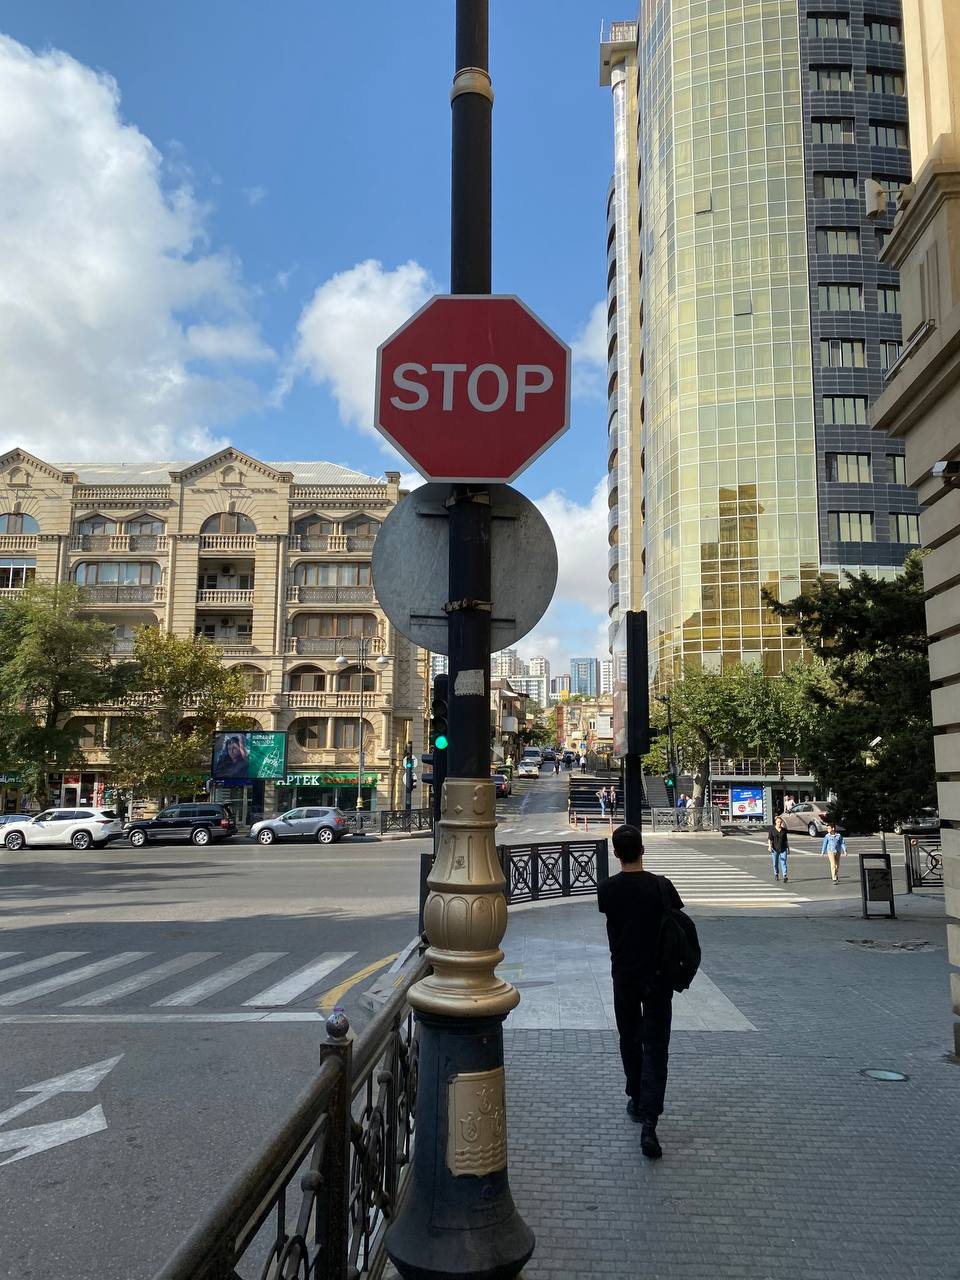STOP: (372, 294, 571, 484)
